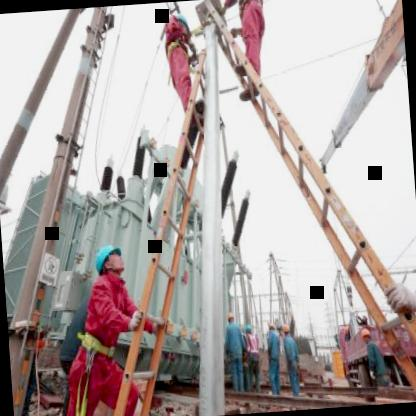helmet: (92, 242, 126, 283), (361, 325, 373, 347), (226, 308, 236, 330), (280, 321, 290, 339), (244, 322, 254, 340), (268, 319, 276, 337)
